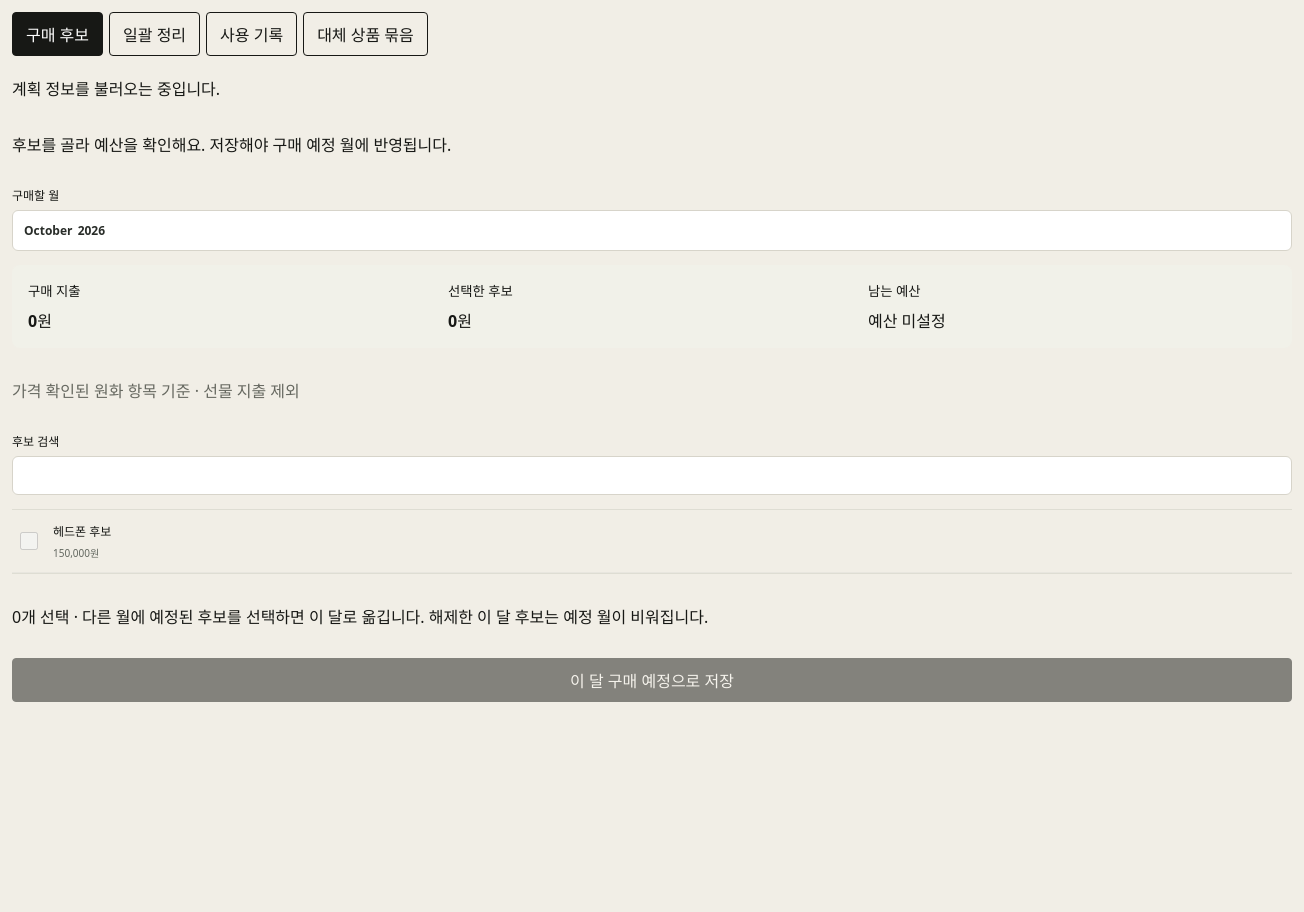
Test: 구매 후보의 저장 실패 시 선택을 유지하고 다시 저장한다
Expected: the button "이 달 구매 예정으로 저장" is enabled, [12,658,1292,702]
What coordinates should you click on to do the following:
click the checkbox
I would click on:
 (29, 541)
Its box is [20,532,38,550].
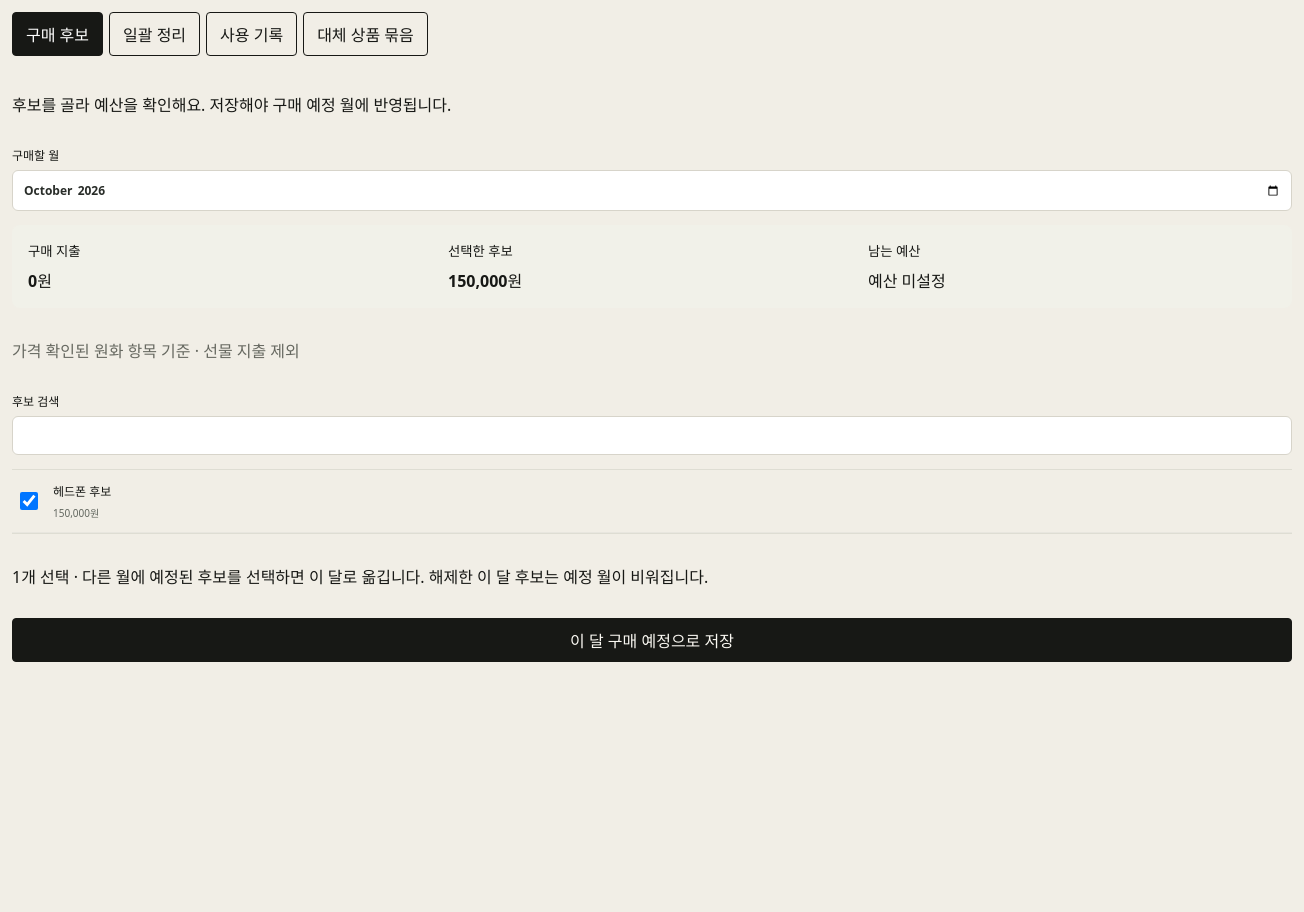
What coordinates should you click on to do the following:
click the button "이 달 구매 예정으로 저장"
I would click on:
 (652, 640)
Its box is [12,618,1292,662].
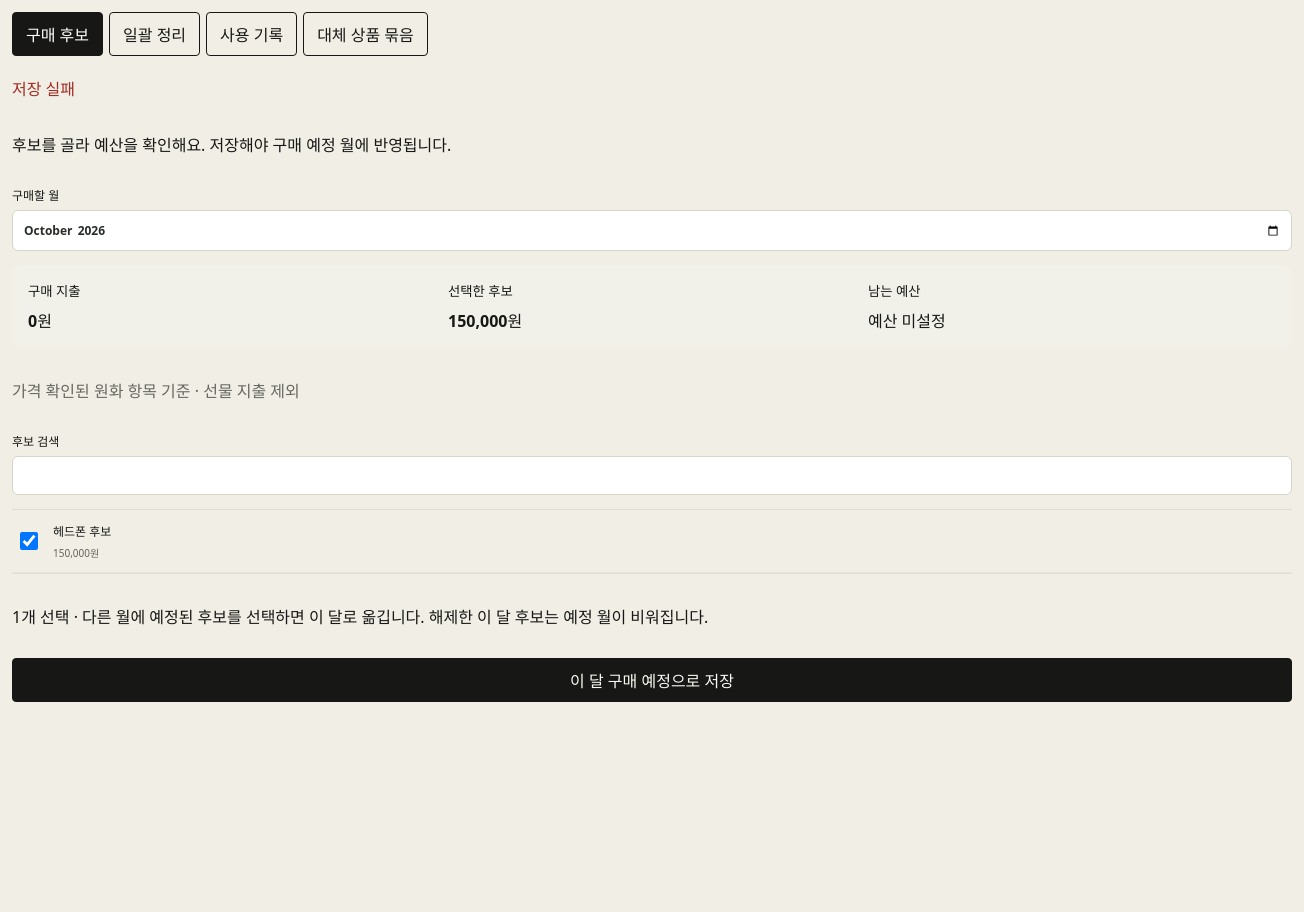
Now the checkbox is checked, box [20,532,38,550]
Now the text "저장 실패" is shown, box [12,78,75,100]
What coordinates should you click on to do the following:
click the button "이 달 구매 예정으로 저장"
I would click on:
 (652, 680)
Its box is [12,658,1292,702].
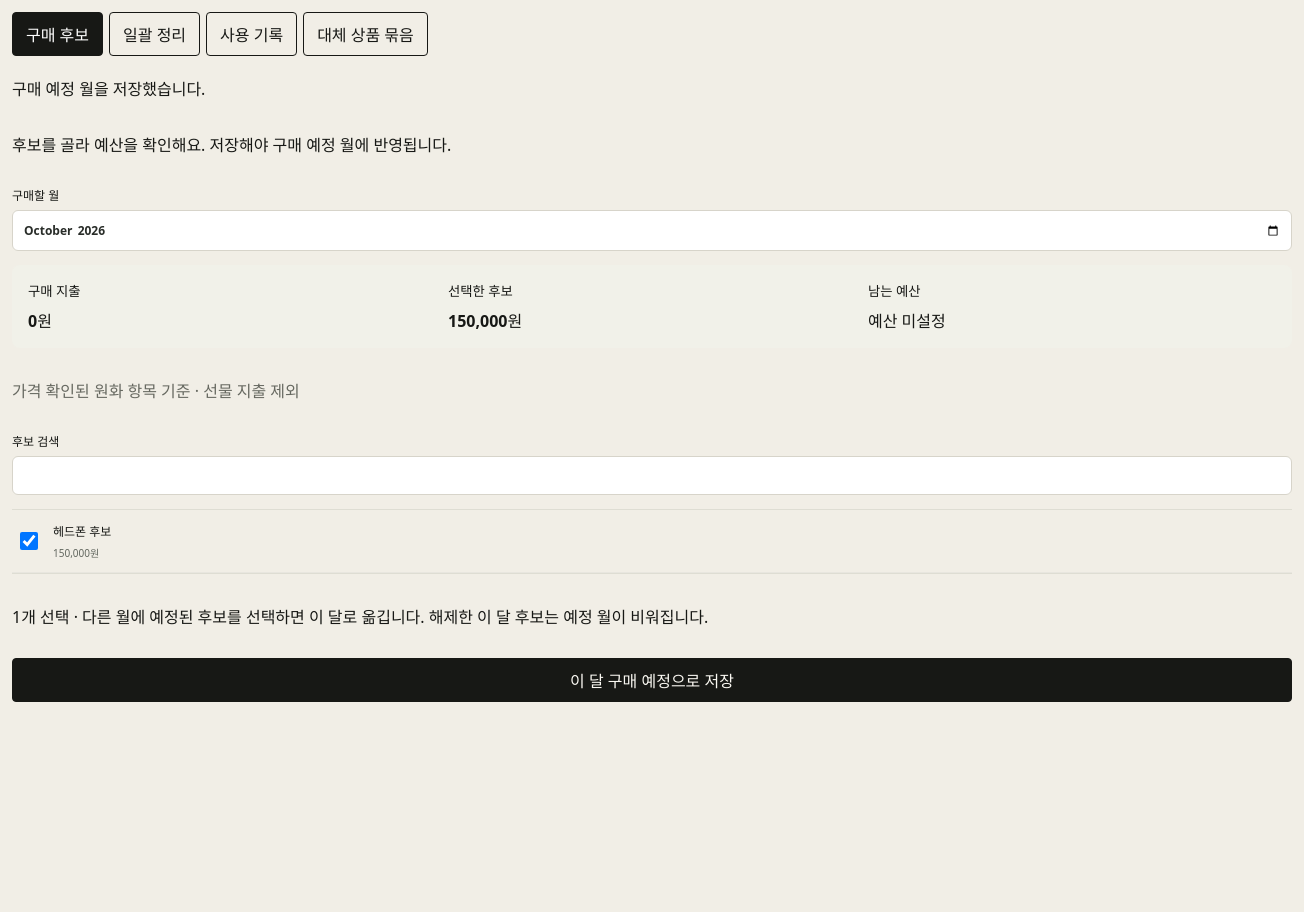
Now the text "구매 예정 월을 저장했습니다." is shown, box [12,78,205,100]
